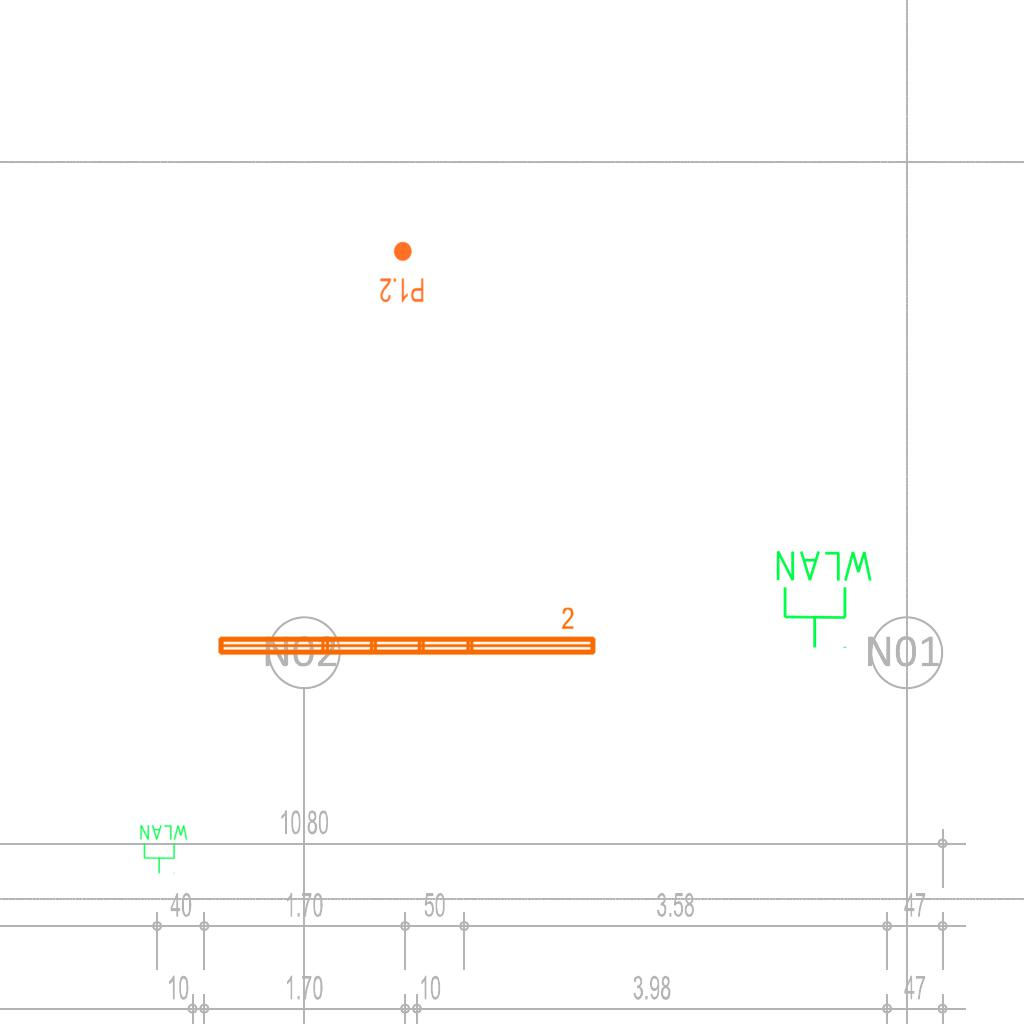Ambulanz_Pendelleuchte_LED: (213, 605, 600, 661)
Downlight_LED_Einbauleuchten_Flur: (379, 240, 425, 304)
WLAN: (772, 547, 877, 651), (138, 823, 190, 875)
